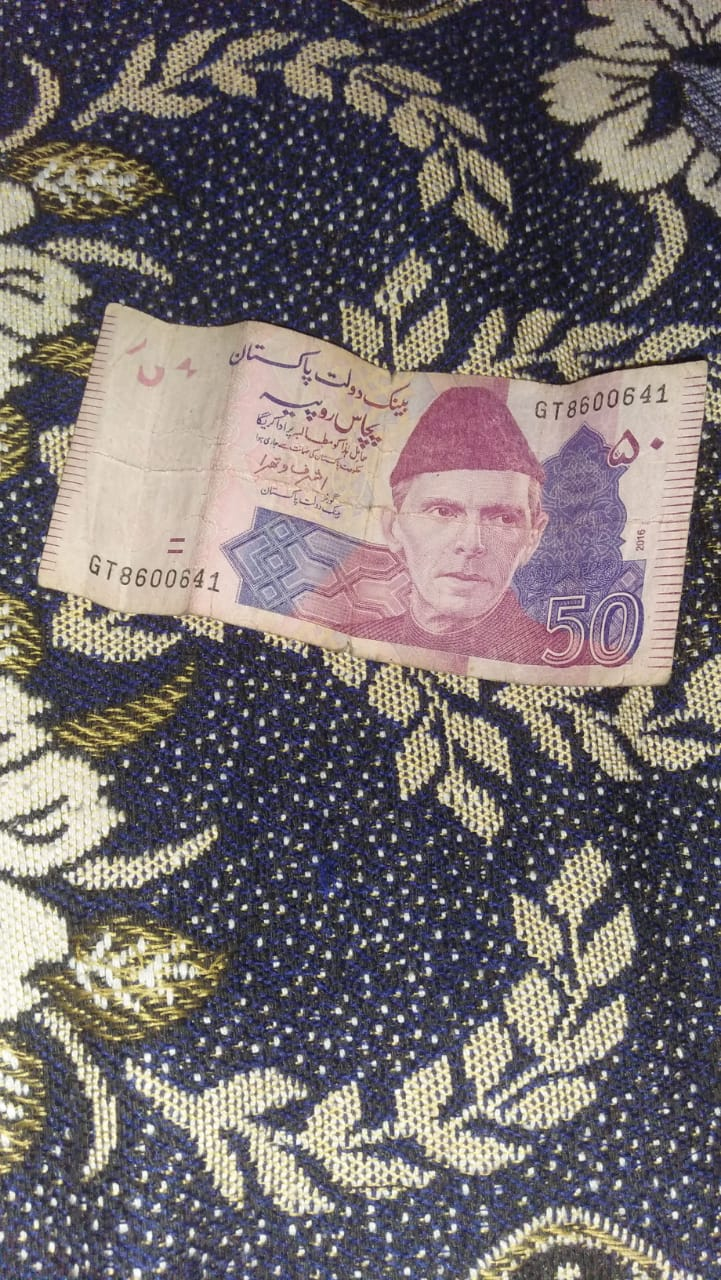50 rupee: (28, 256, 709, 700)
